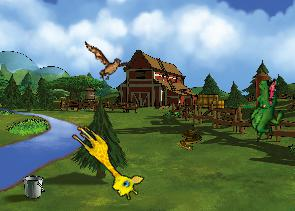crocodile: (242, 76, 289, 142)
eagle: (80, 41, 131, 83)
giraffe: (62, 120, 148, 204)
